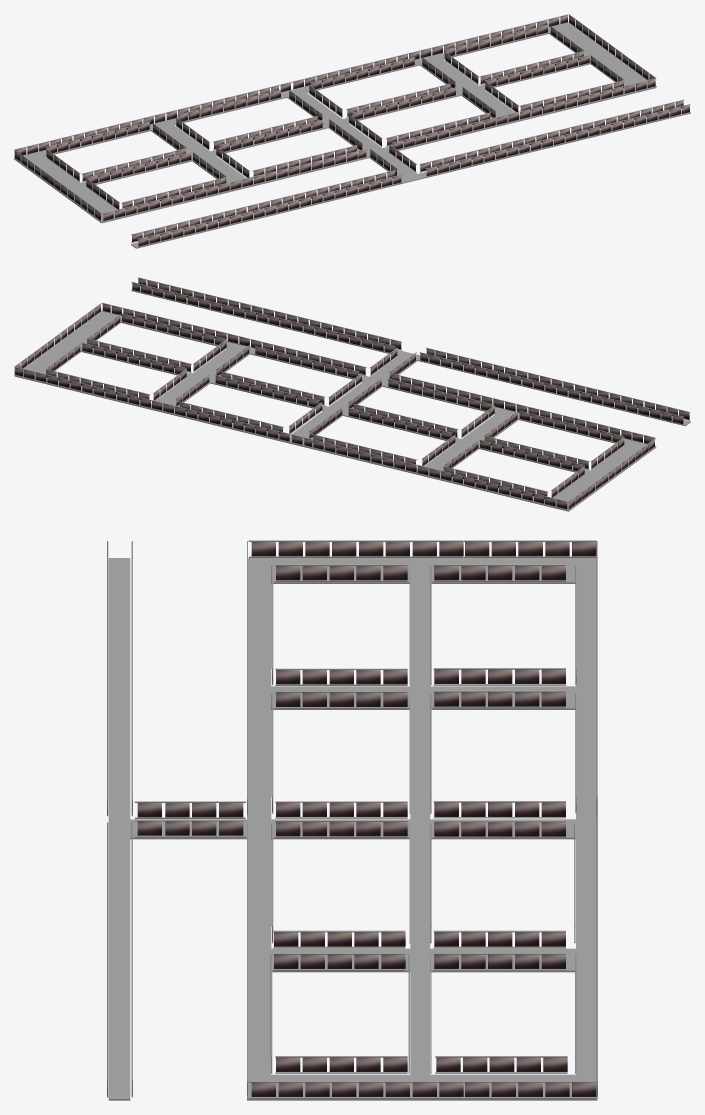
The model's file is LargeRoomFloorPiece.fbx.
3 views of the same model, one above another, from view 1: azimuth 30°, elevation 25°; view 2: azimuth 150°, elevation 25°; view 3: azimuth 270°, elevation 25° (orthographic). The views are drawn at different scales.
Visible parts, largest first — view 1: pCube14, pCylinder41, pCylinder129, pCylinder24, pCylinder131, pCylinder125, pCylinder133, pCylinder45, pCylinder130, pCylinder127, pCylinder132, pCylinder42 (+1 smaller); view 2: pCube14, pCylinder41, pCylinder24, pCylinder45, pCylinder127, pCylinder129, pCylinder131, pCylinder133, pCylinder128, pCylinder125, pCylinder44, pCylinder126 (+1 smaller); view 3: pCube14.
Part boxes in pixels (x1=…): pCube14: x1=14, y1=23, x2=690, y2=248; pCylinder41: x1=391, y1=78, x2=656, y2=143; pCylinder129: x1=137, y1=174, x2=401, y2=239; pCylinder24: x1=102, y1=149, x2=367, y2=213; pCylinder131: x1=426, y1=104, x2=690, y2=169; pCylinder125: x1=15, y1=85, x2=279, y2=149; pCylinder133: x1=419, y1=99, x2=684, y2=164; pCylinder45: x1=305, y1=14, x2=568, y2=79; pCylinder130: x1=137, y1=182, x2=401, y2=247; pCylinder127: x1=131, y1=170, x2=395, y2=234; pCylinder132: x1=426, y1=112, x2=690, y2=177; pCylinder42: x1=102, y1=157, x2=366, y2=221; pCube14: x1=14, y1=287, x2=690, y2=511; pCylinder41: x1=102, y1=302, x2=366, y2=367; pCylinder24: x1=391, y1=373, x2=654, y2=438; pCylinder45: x1=14, y1=367, x2=278, y2=431; pCylinder127: x1=419, y1=352, x2=683, y2=417; pCylinder129: x1=426, y1=347, x2=690, y2=412; pCylinder131: x1=137, y1=277, x2=401, y2=342; pCylinder133: x1=131, y1=282, x2=395, y2=346; pCylinder128: x1=419, y1=360, x2=683, y2=425; pCylinder125: x1=307, y1=438, x2=567, y2=502; pCylinder44: x1=14, y1=374, x2=277, y2=439; pCylinder126: x1=307, y1=446, x2=567, y2=510; pCube14: x1=108, y1=558, x2=597, y2=1100.
Bounding box in the file's own units: 1099 × 18.59 × 421.
2 materials, 1 textured.
